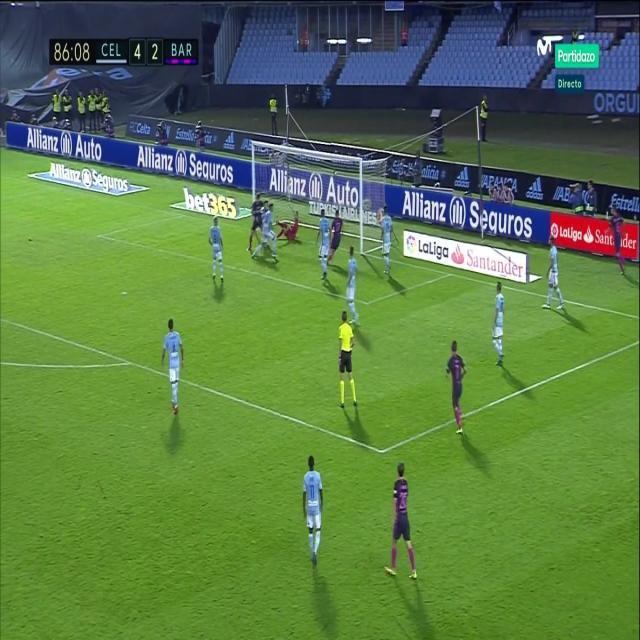Goalkeeper: (272, 207, 302, 245)
Player: (385, 461, 420, 582), (300, 455, 325, 570), (159, 314, 186, 420), (539, 232, 571, 313), (444, 335, 468, 438), (253, 194, 279, 266), (606, 204, 629, 280), (489, 276, 507, 370), (207, 213, 227, 285), (344, 245, 360, 324), (315, 207, 330, 286), (247, 184, 263, 252), (379, 205, 393, 279), (329, 209, 345, 266)
Referee: (336, 309, 363, 412)
